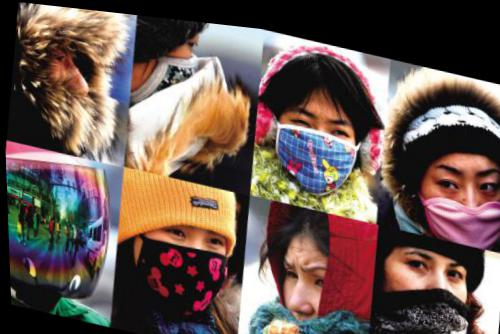NONE: (23, 38, 107, 137)
OK: (127, 205, 235, 319), (270, 96, 363, 194), (127, 16, 208, 117)
WRONG: (381, 228, 473, 333), (266, 246, 367, 334), (419, 138, 500, 243)
